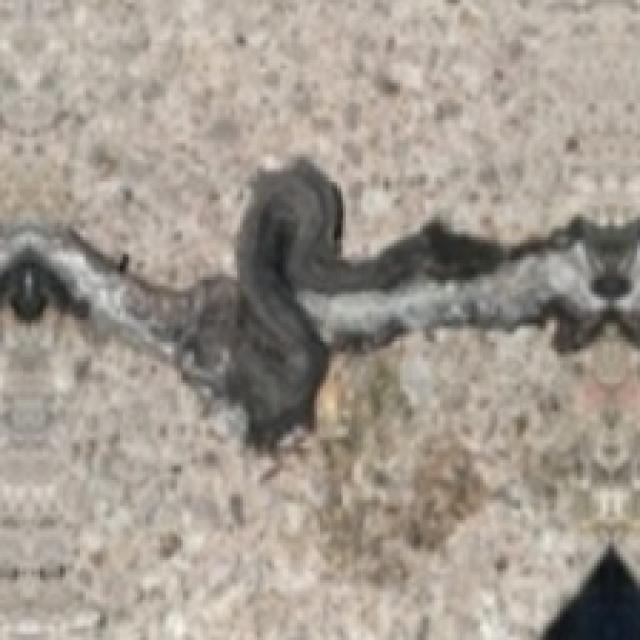reticulated python: (226, 159, 505, 444)
